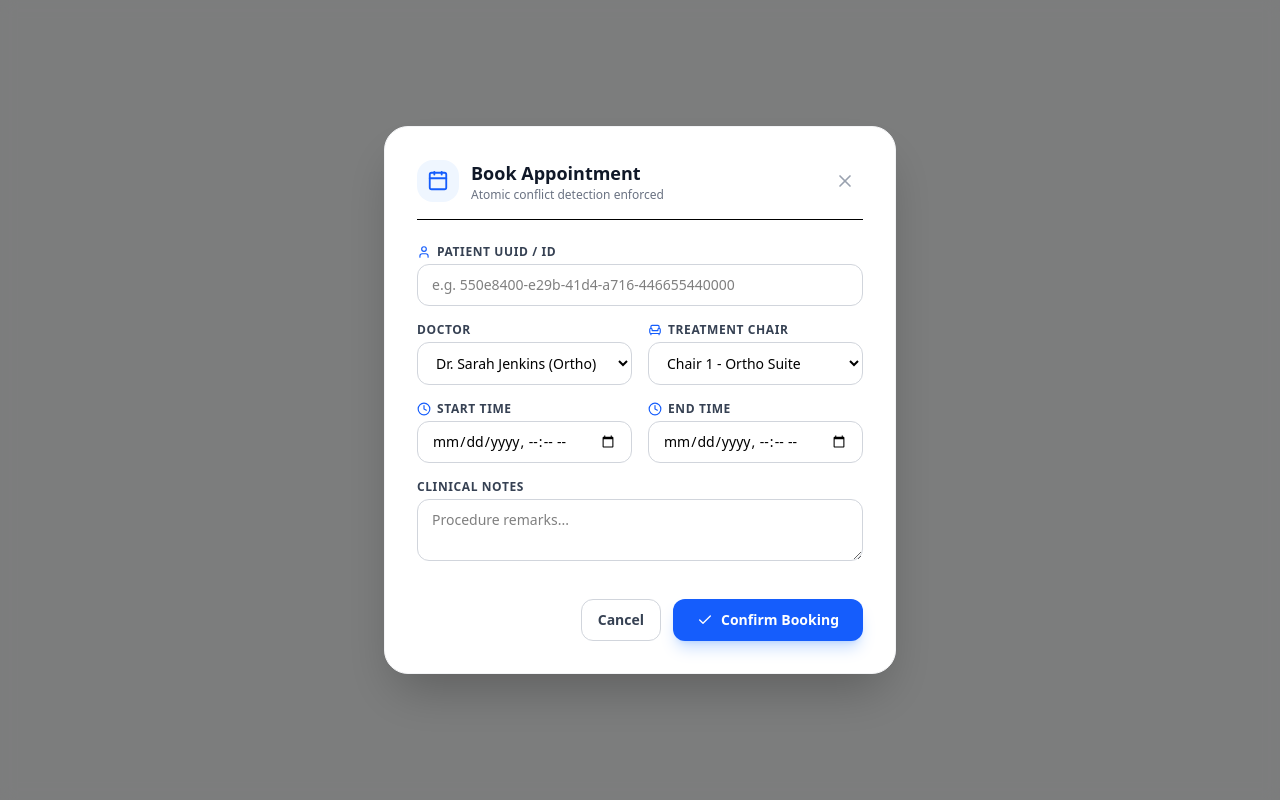
it: AppointmentBookingModal (FR-APT-003) › falls back to the default conflict message when the error has no body
In the field labelled "Patient UUID / ID": (640, 285) [417,264,863,306], type "pat-1"
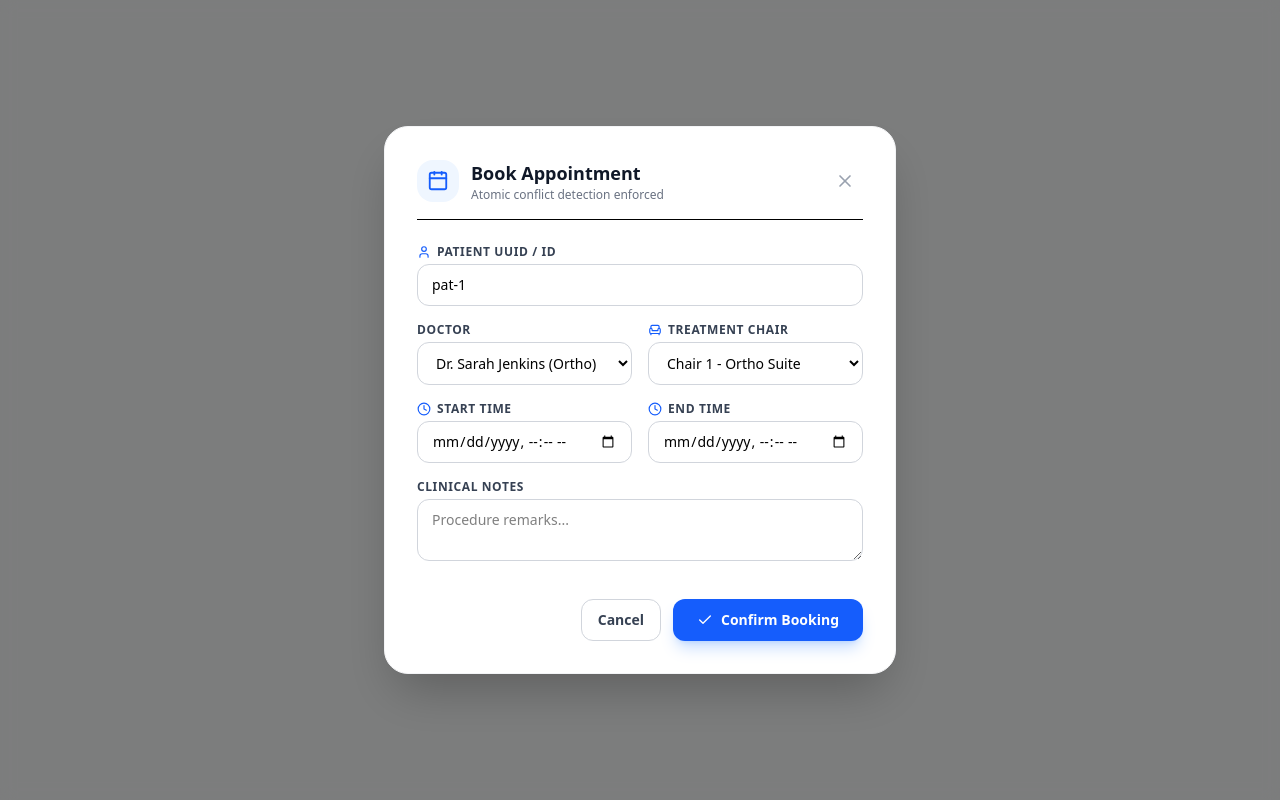
In the field labelled "Start Time": (524, 442) [417,421,632,463], type "2026-12-01T09:00"
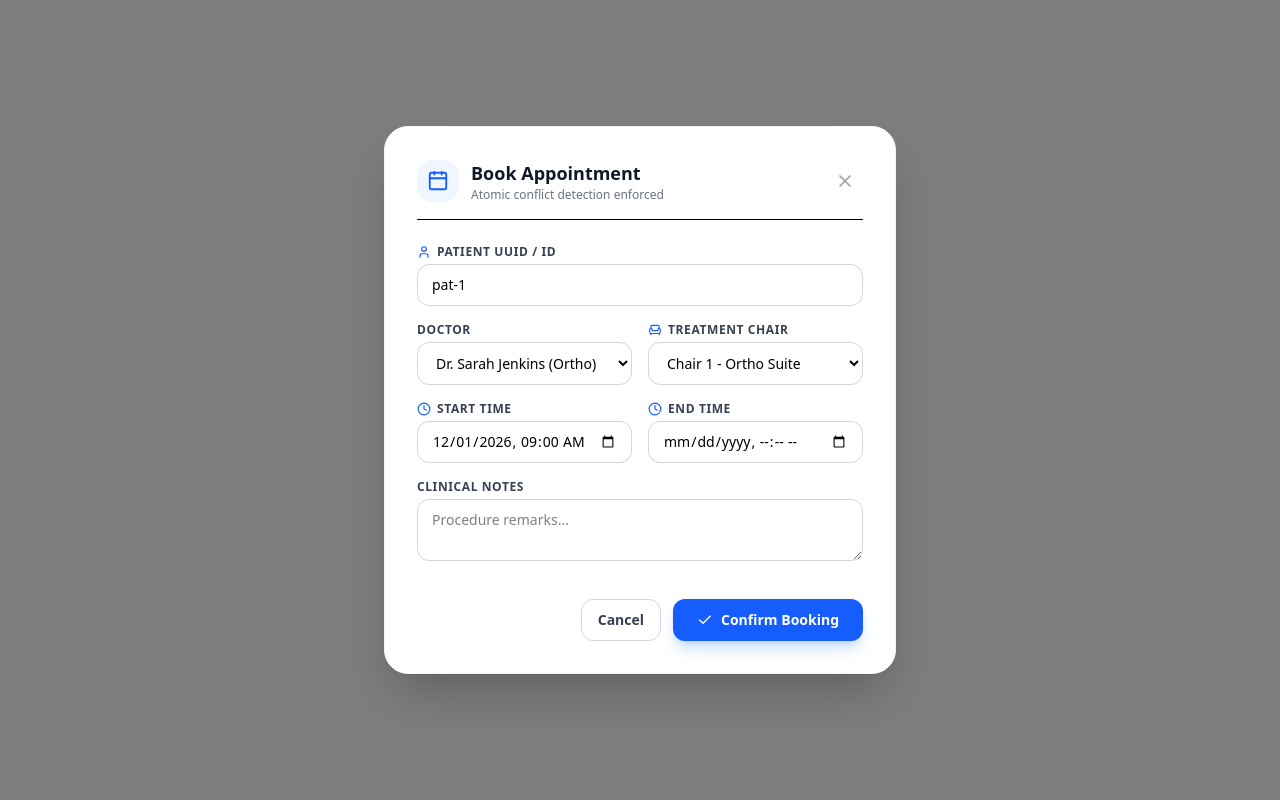
In the field labelled "End Time": (756, 442) [648,421,863,463], type "2026-12-01T09:30"
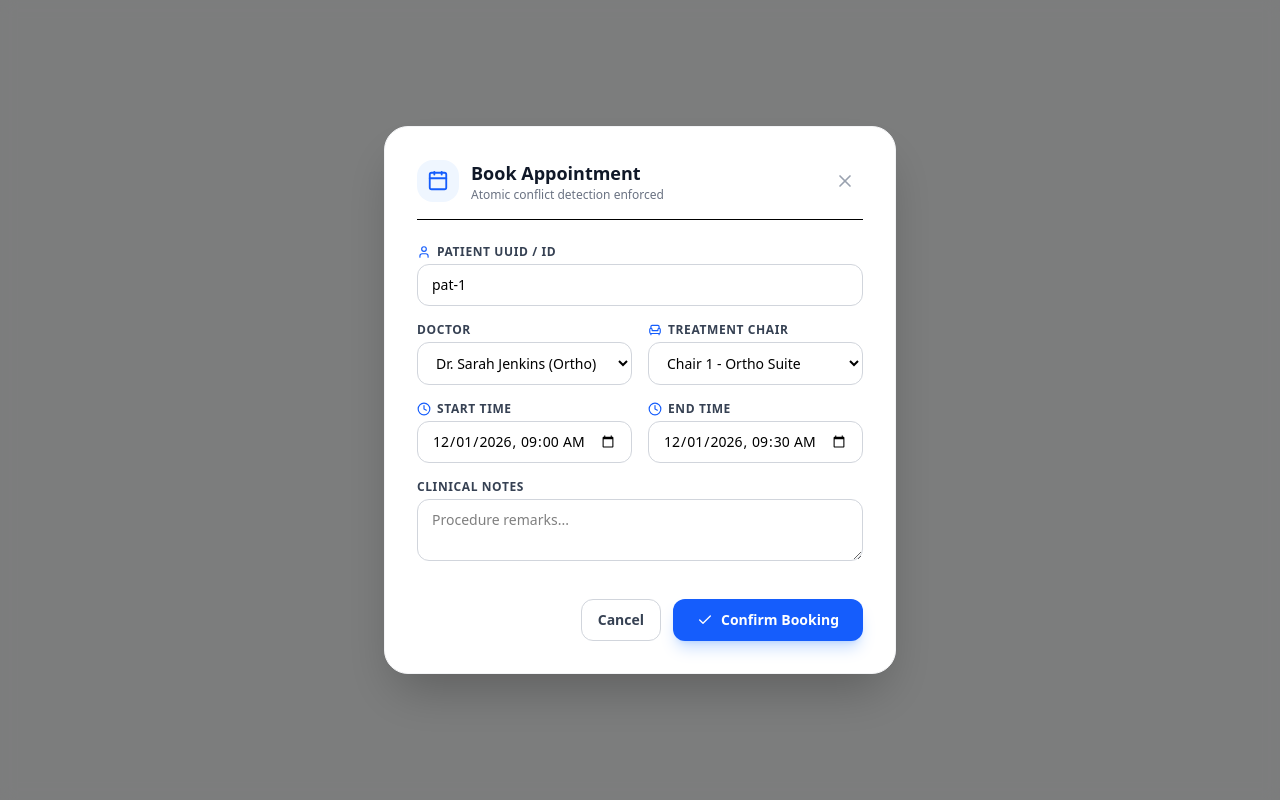
Click the button "Confirm Booking": click(768, 620) [673,599,863,641]
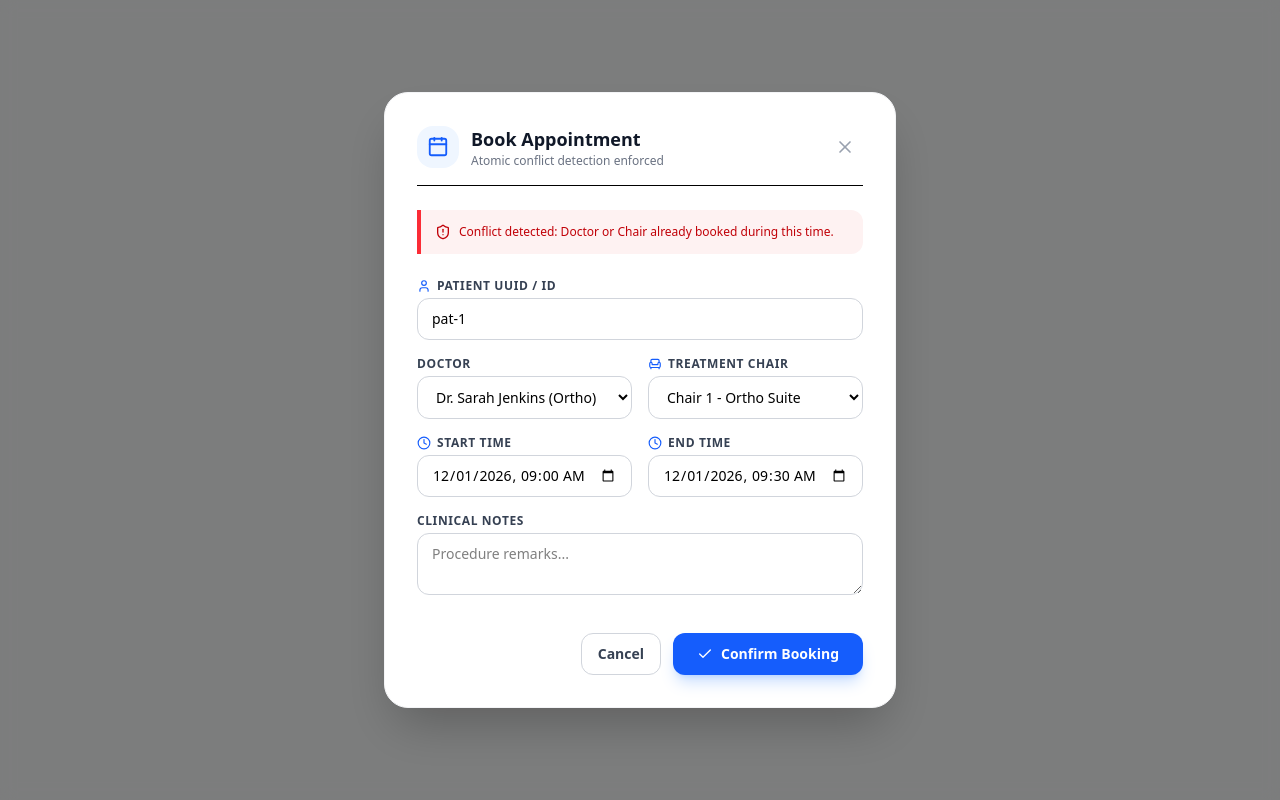
expect the text "Conflict detected" is shown: met, box [459,223,834,240]
